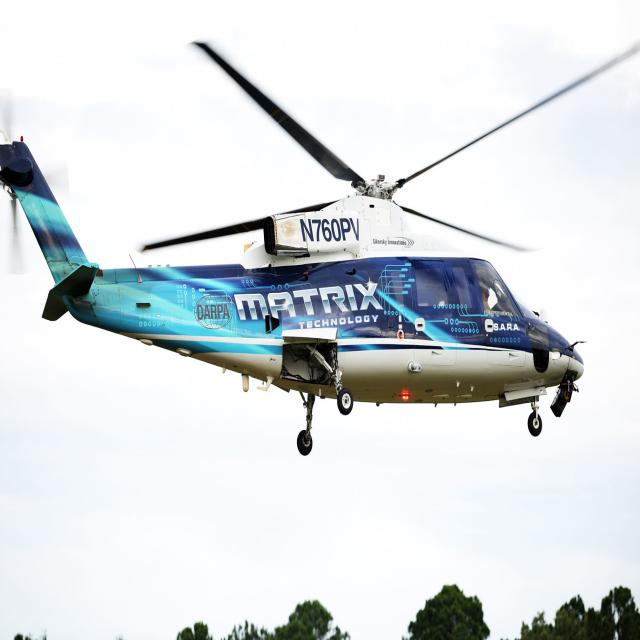helicopter: (1, 38, 640, 457)
